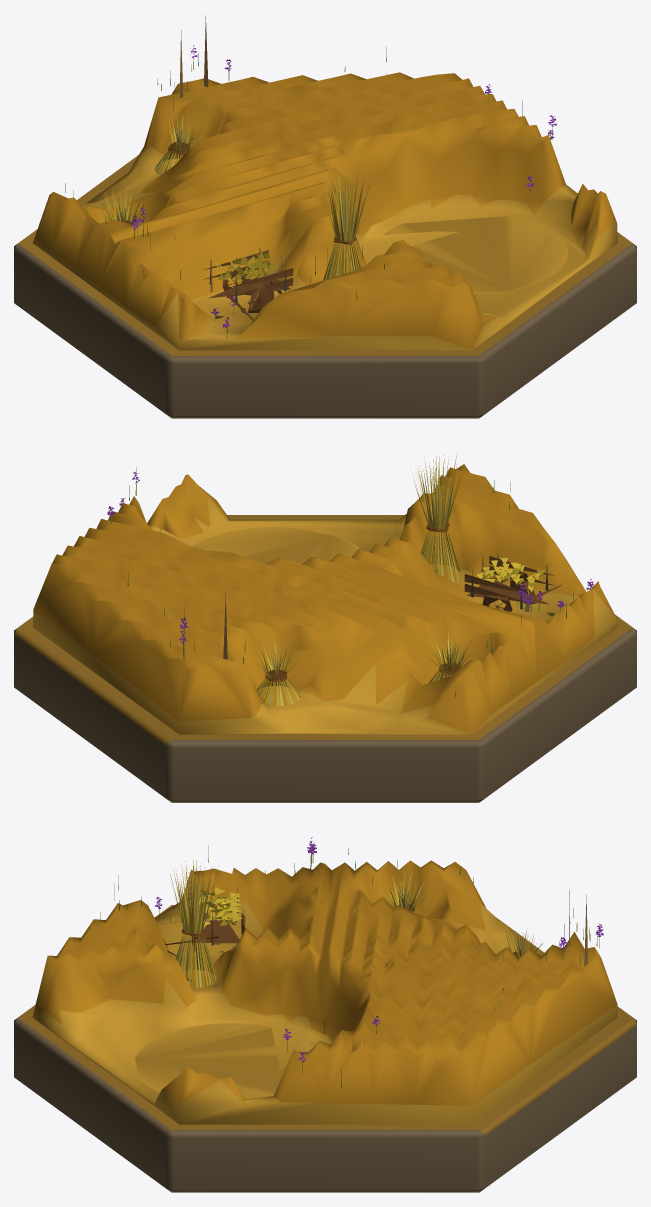
File: tile_grain_lod0.glb
3 renders of one model, top to bottom at view 1: azimuth 30°, elevation 25°; view 2: azimuth 150°, elevation 25°; view 3: azimuth 270°, elevation 25°, orthographic.
Visible parts, largest first — view 1: tile_grain_LOD0; view 2: tile_grain_LOD0; view 3: tile_grain_LOD0.
Boxes of the visible parts, <box> form: tile_grain_LOD0: <box>14,15,636,418</box>; tile_grain_LOD0: <box>14,454,636,802</box>; tile_grain_LOD0: <box>14,837,636,1192</box>.
Bounding box in the file's own units: 1.73 × 0.6864 × 1.98.
